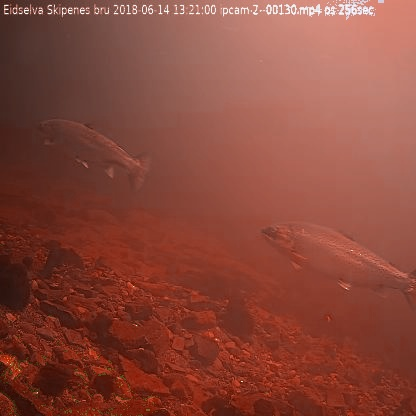salmon: (258, 216, 416, 315), (34, 114, 154, 198)
